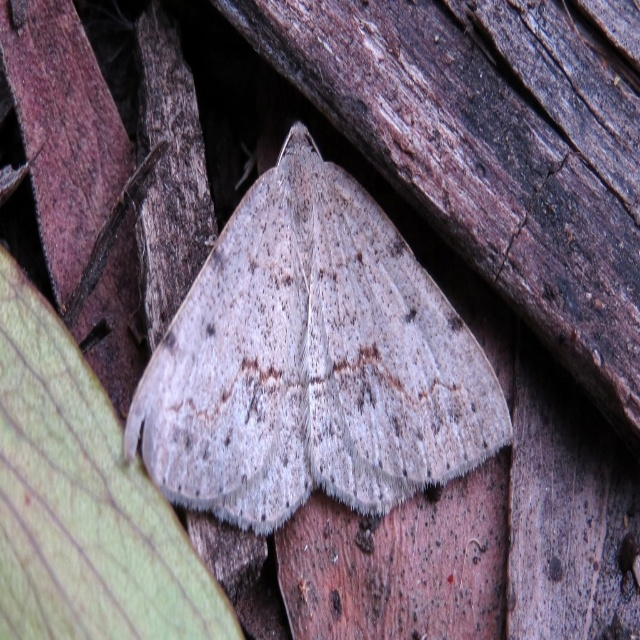Moths and butterflies: (118, 116, 519, 543)
